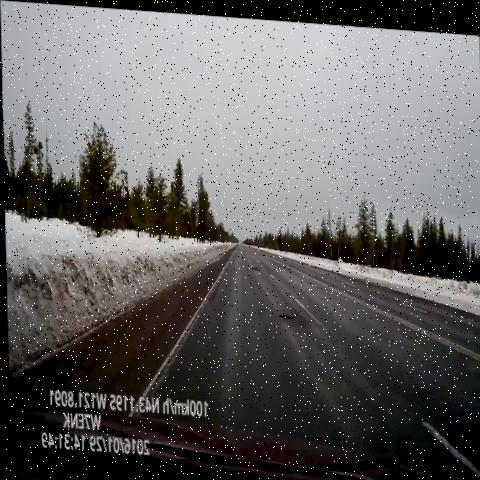pothole: (270, 292, 304, 327), (244, 256, 265, 278)
